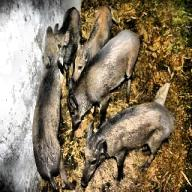boar: (80, 82, 174, 188), (31, 6, 81, 191)
